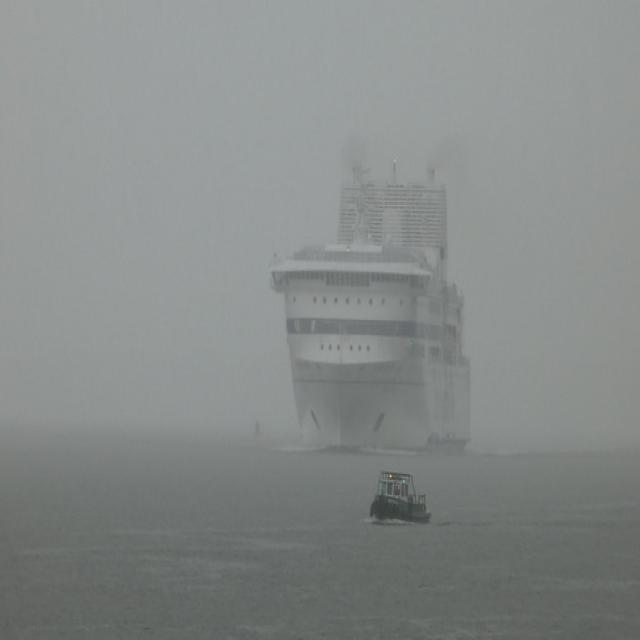houseboat: (371, 461, 437, 529)
passenger ship: (274, 137, 484, 448)
